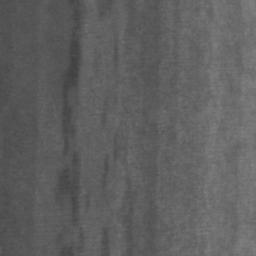Inclusion: (55, 31, 83, 210)
